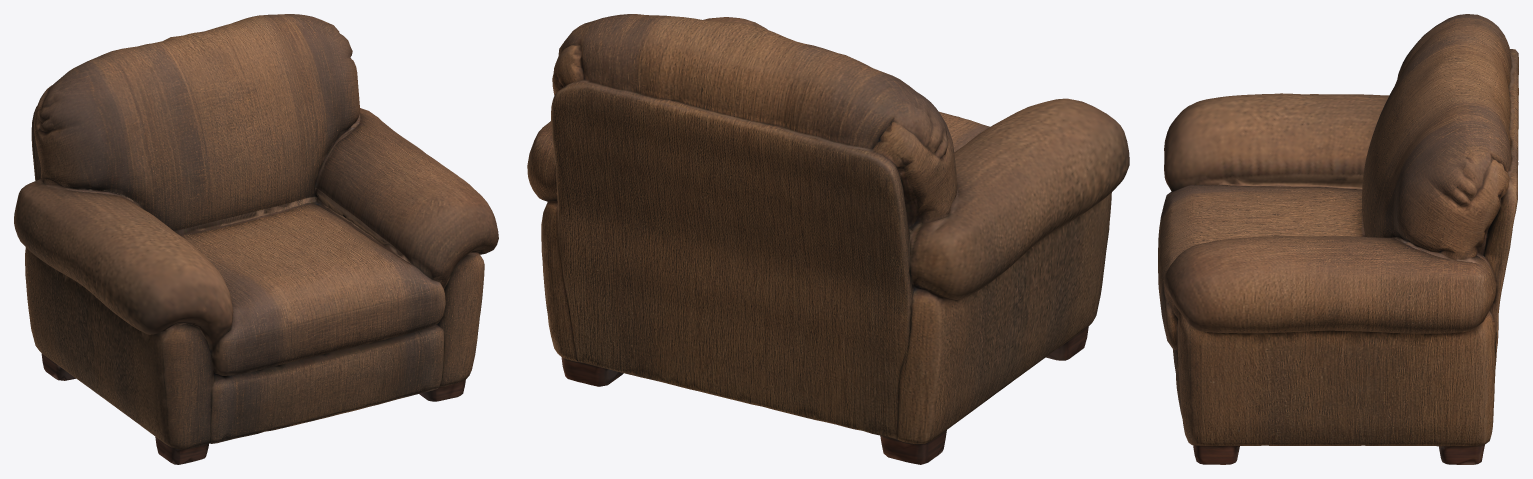
File: VAR_LivingRoom_Armchair.fbx
3 views of the same model, side by side, from view 1: azimuth 30°, elevation 25°; view 2: azimuth 150°, elevation 25°; view 3: azimuth 270°, elevation 25° (orthographic). The views are drawn at different scales.
Visible parts, largest first — view 1: texture_mapping; view 2: texture_mapping; view 3: texture_mapping.
Part boxes in pixels (x1,y1,x2,y2): texture_mapping: [14, 14, 498, 464]; texture_mapping: [527, 14, 1129, 464]; texture_mapping: [1158, 14, 1518, 464].
Size of the model in its own units: 1 by 0.7961 by 0.7988.
1 material, 1 textured.
